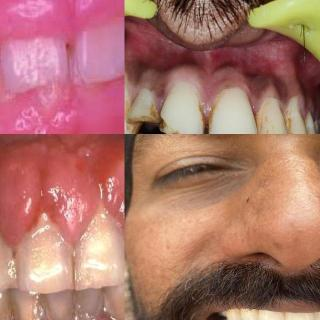Gum Swelling: (132, 68, 308, 120), (0, 179, 124, 244), (0, 89, 124, 130), (0, 0, 124, 35)
calculus: (78, 208, 124, 260), (20, 220, 64, 272), (70, 295, 108, 320), (100, 285, 124, 320), (13, 297, 42, 320), (44, 302, 76, 320)
stains: (161, 90, 205, 134), (205, 94, 229, 134), (129, 102, 159, 130), (124, 94, 140, 134), (259, 104, 273, 134), (281, 111, 297, 134), (234, 309, 244, 318), (278, 313, 290, 320), (255, 309, 262, 317)
